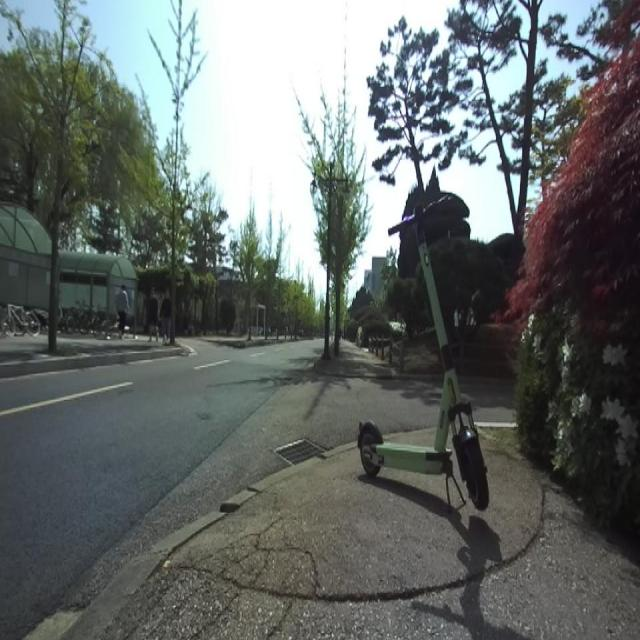sidewalk: (102, 433, 640, 640), (191, 372, 443, 524), (317, 341, 393, 376), (461, 380, 516, 420), (57, 337, 162, 350), (384, 430, 437, 447), (0, 337, 49, 352)
